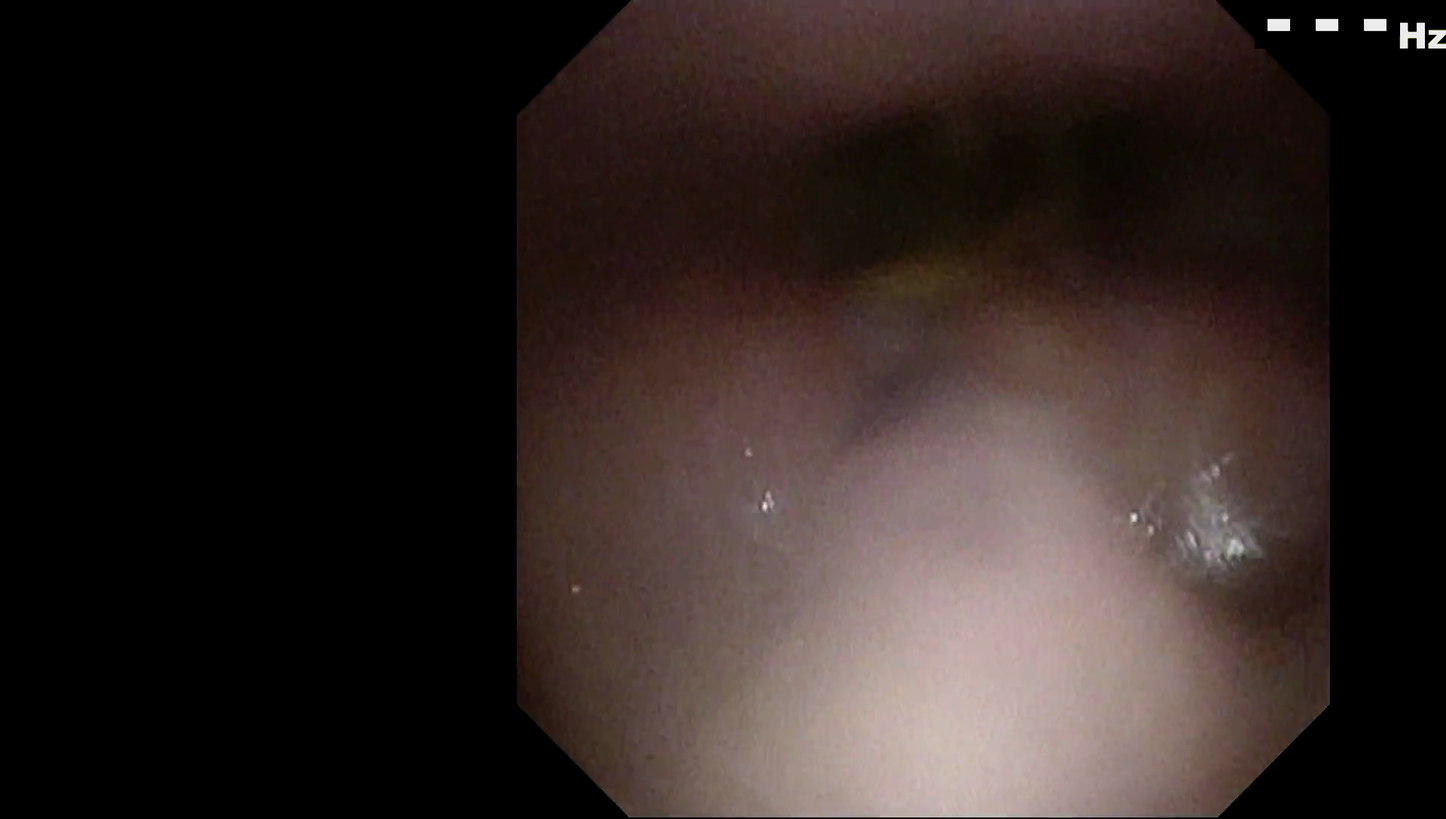close_wall: (684, 453, 1194, 814)
next: (783, 78, 1235, 291)
